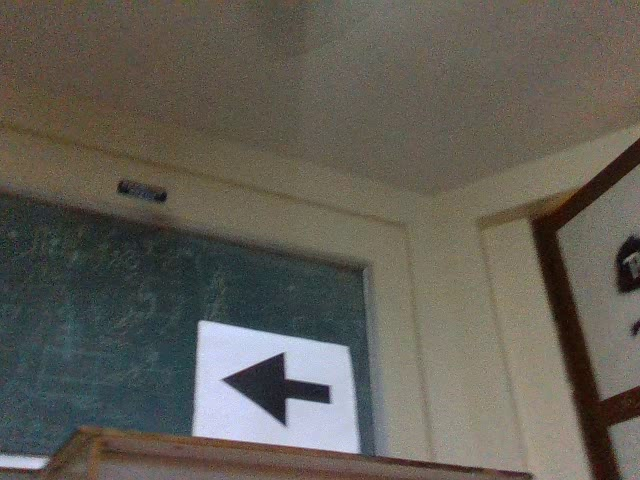Left: (216, 349, 338, 433)
